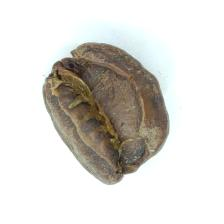NG: (50, 53, 149, 168)
